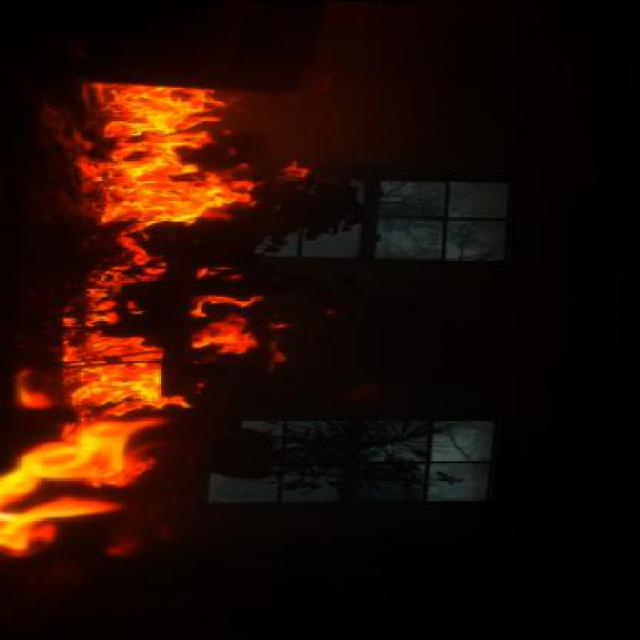fire: (1, 86, 327, 615)
